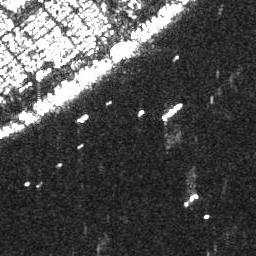ship: (161, 101, 183, 121), (183, 193, 199, 207), (76, 112, 90, 124), (136, 109, 146, 118), (77, 142, 84, 149), (23, 181, 31, 187), (106, 100, 114, 106)
